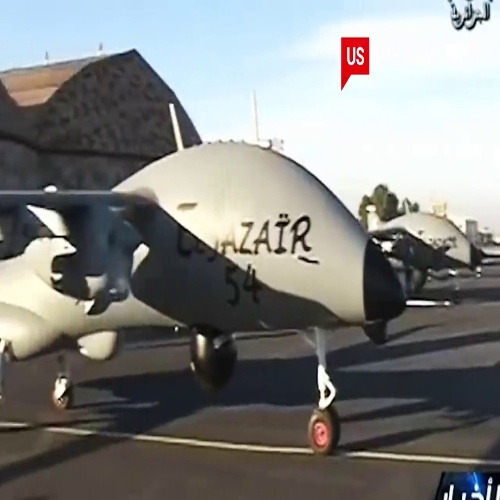uav: (3, 104, 408, 453), (365, 204, 486, 294)
